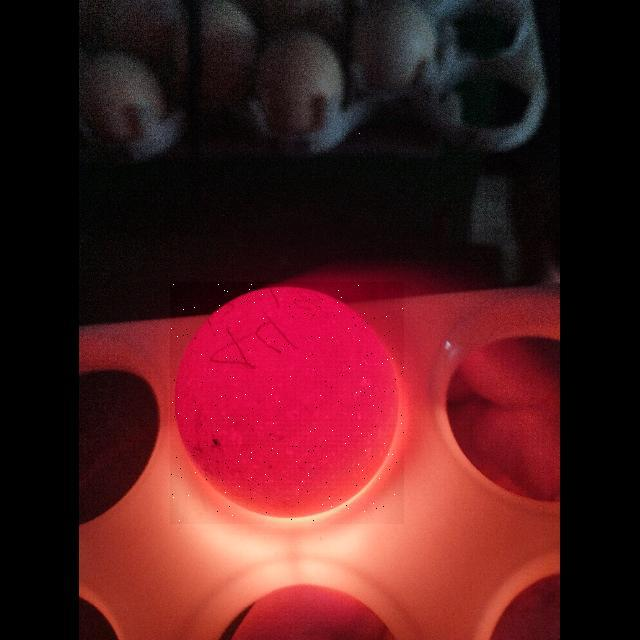Infertile: (170, 282, 404, 524)
